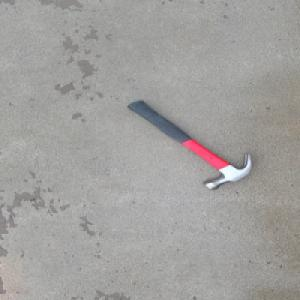Hammer: (124, 97, 253, 189)
